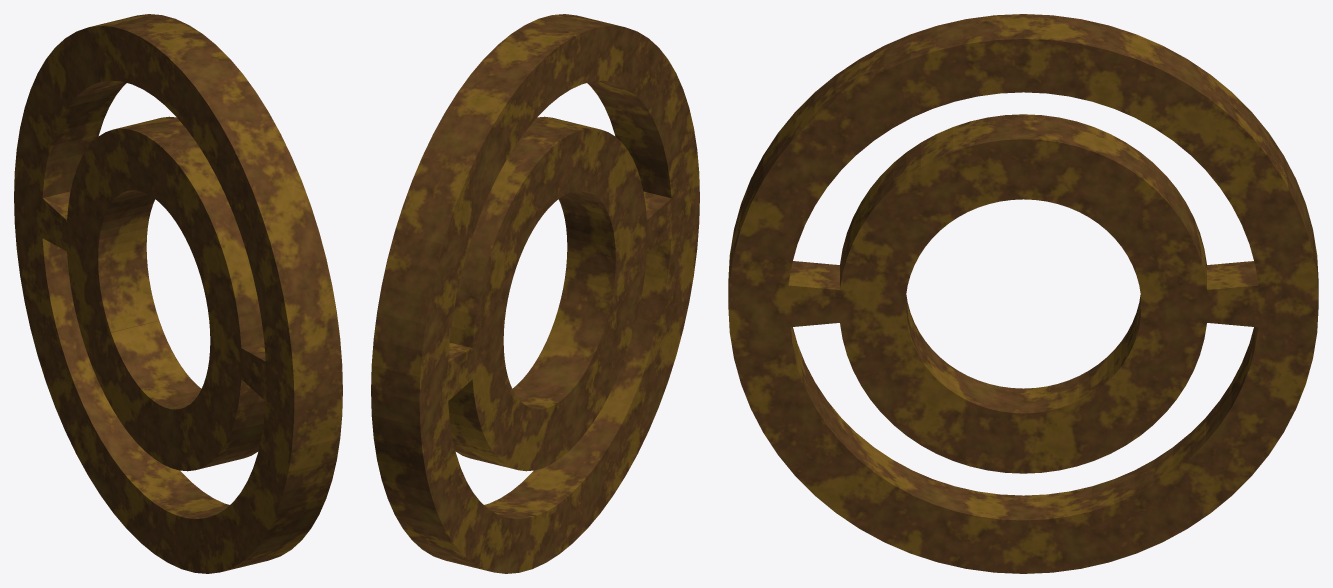
File: Collectible5.fbx
3 renders of one model, left to right at view 1: azimuth 30°, elevation 25°; view 2: azimuth 150°, elevation 25°; view 3: azimuth 270°, elevation 25°, orthographic. The views are drawn at different scales.
Parts seen in each view (by area): view 1: Circle.010; view 2: Circle.010; view 3: Circle.010.
Boxes of the visible parts, left/top/right/bottom form: Circle.010: left=14, top=14, right=342, bottom=573; Circle.010: left=371, top=14, right=699, bottom=573; Circle.010: left=728, top=14, right=1318, bottom=573.
Size of the model in its own units: 8 by 80 by 80.
Materials: 1 (1 with a texture image).
